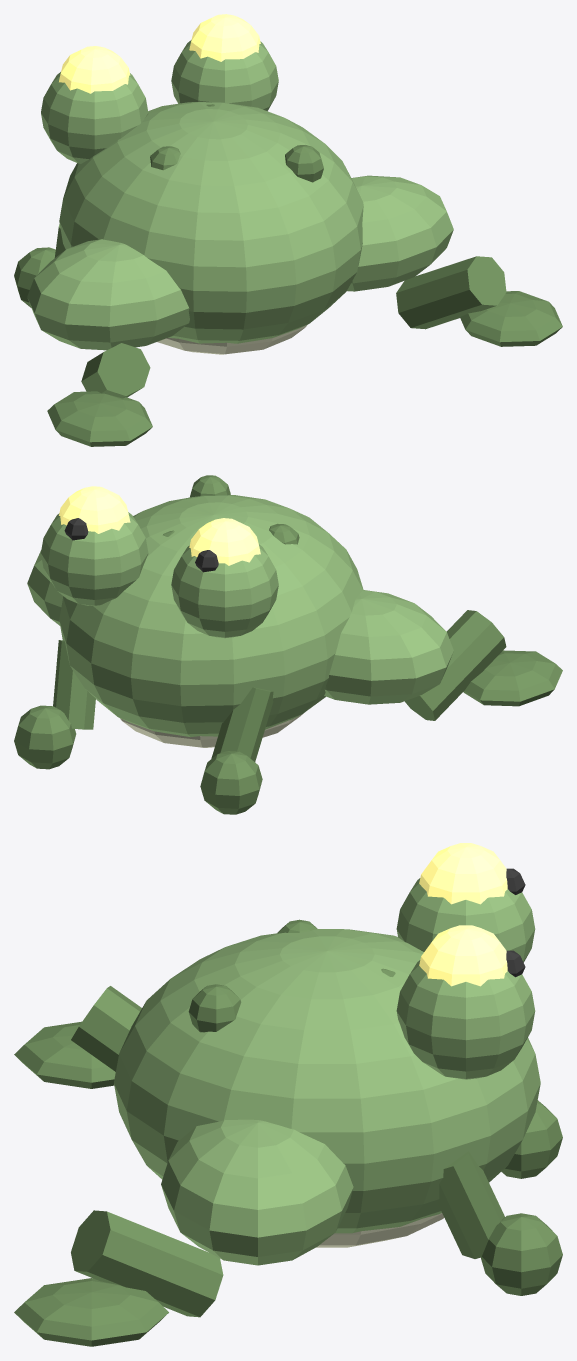
File: frog.glb
3 views of the same model, one above another, from view 1: azimuth 30°, elevation 25°; view 2: azimuth 150°, elevation 25°; view 3: azimuth 270°, elevation 25° (orthographic). The views are drawn at different scales.
Visible parts, largest first — view 1: frog; view 2: frog; view 3: frog.
Boxes of the visible parts, x1,y1,x2,y2 form: frog: (14,14,562,446); frog: (14,475,562,814); frog: (14,843,562,1346).
Size of the model in its own units: 0.536 by 0.275 by 0.396.
